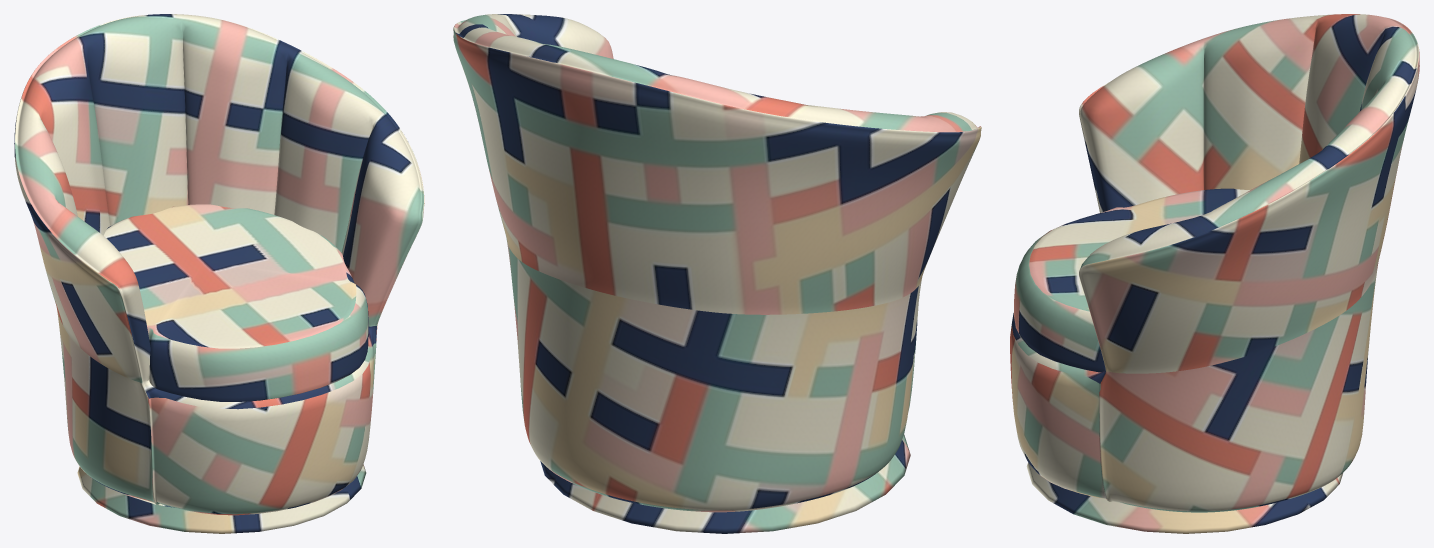
Rendered from new_third_lightblue.glb.
The picture shows the model from 3 angles, left to right: view 1: azimuth 30°, elevation 25°; view 2: azimuth 150°, elevation 25°; view 3: azimuth 270°, elevation 25°; orthographic projection. The views are drawn at different scales.
Parts seen in each view (by area): view 1: g.002, g, g.001; view 2: g.002, g.001; view 3: g.002, g, g.001.
Boxes of the visible parts, bbox=[...] form: g.002: bbox=[14, 14, 424, 515]; g: bbox=[103, 204, 368, 401]; g.001: bbox=[77, 464, 366, 533]; g.002: bbox=[453, 14, 981, 512]; g.001: bbox=[540, 434, 910, 533]; g.002: bbox=[1010, 14, 1419, 512]; g: bbox=[1014, 188, 1249, 372]; g.001: bbox=[1026, 462, 1342, 533].
Bounding box in the file's own units: 1.99 × 2 × 1.77.
1 material, 1 textured.
